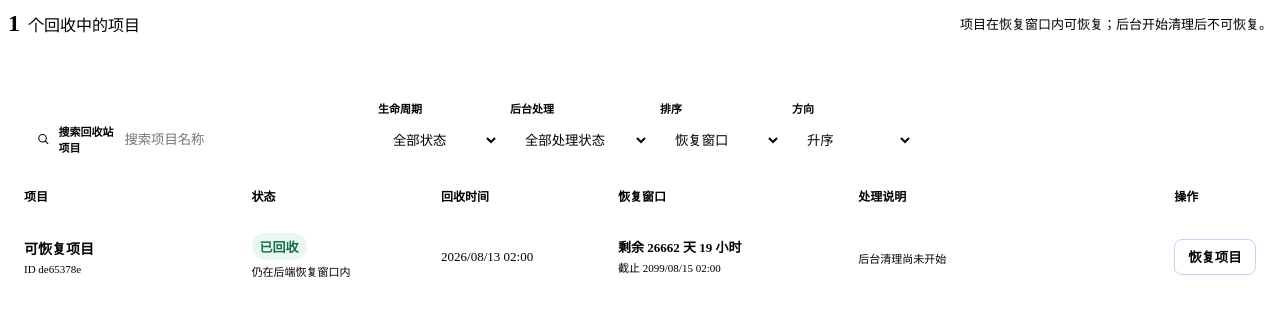
Scenario: 项目回收站 › 恢复失败保留项目并展示后端请求标识
Expected: the text "可恢复项目" is shown, [24,242,94,258]
Click the button "恢复项目" at (1215, 257), box [1174,239,1256,275]
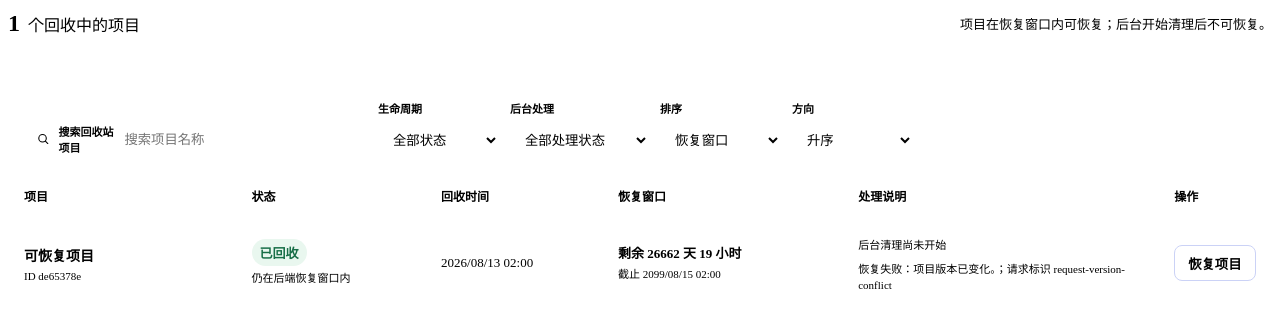
Expected: the text "可恢复项目" is shown, [24,249,94,264]
Expected: the text "恢复失败：项目版本已变化。；请求标识 request-version-conflict" is shown, [858,262,1142,294]
